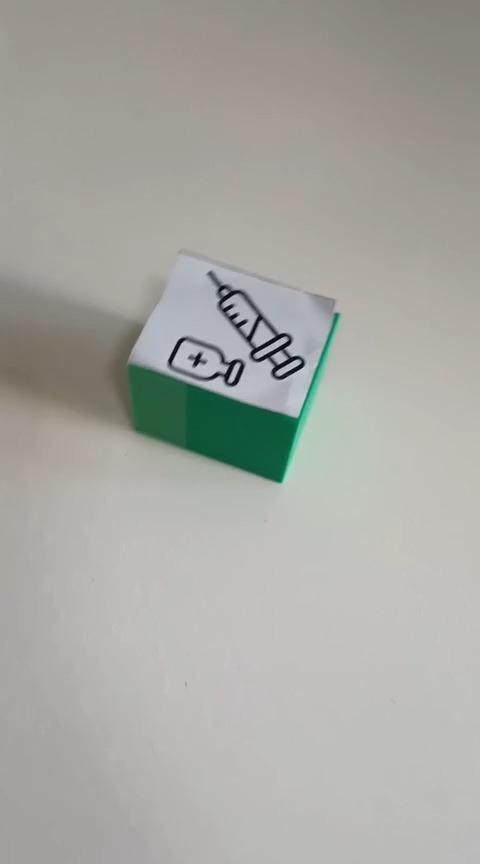antiseptic cream: (125, 247, 340, 484)
